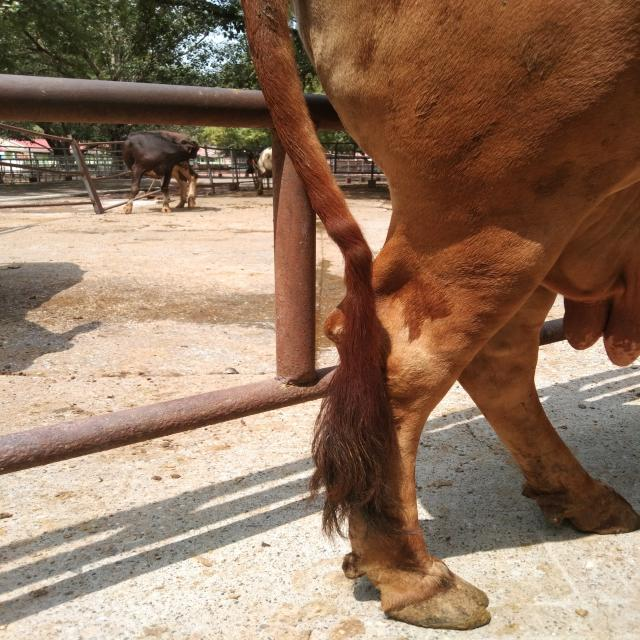Hoof: (378, 564, 491, 630), (521, 478, 639, 535)
